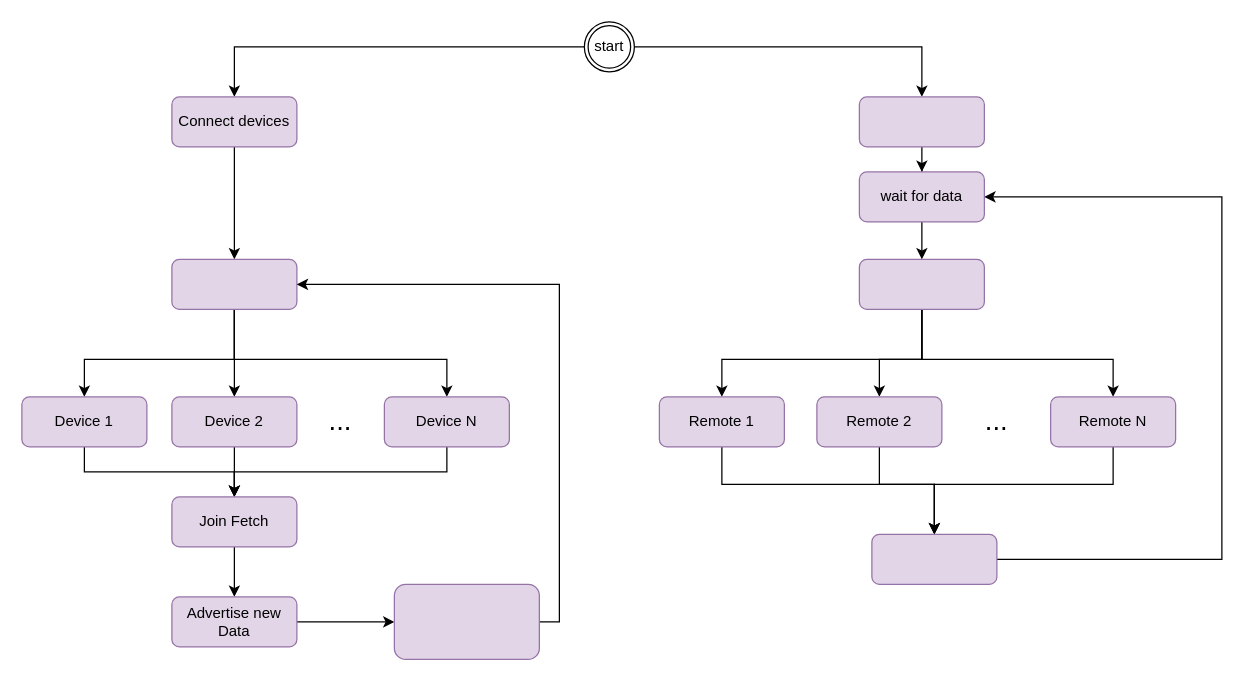
The diagram is 1254 pixels wide and 681 high, and some of its shapes have lost their labels. The centre of each missing label's shape, as x and y in pixels:
Connect Remote: the point at 921,121
Fetch Devices: the point at 234,283
Join Push: the point at 934,558
Push Remotes: the point at 921,283
Wait until sampling period: the point at 466,621
